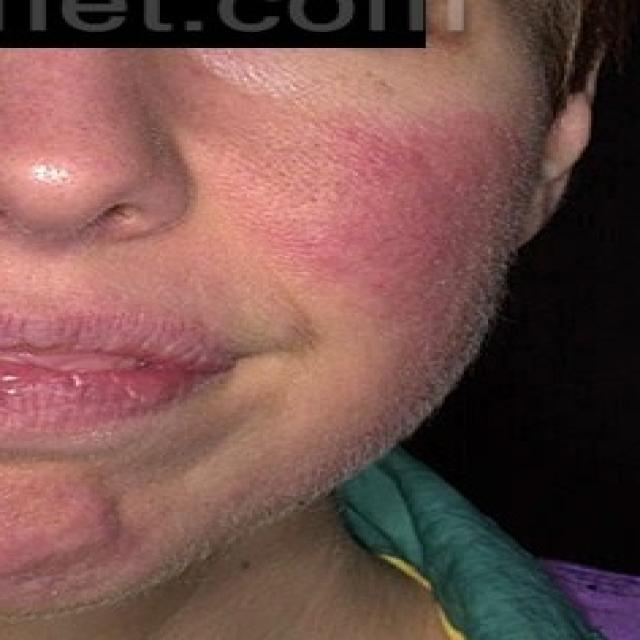Rosacea: (324, 118, 495, 320)
